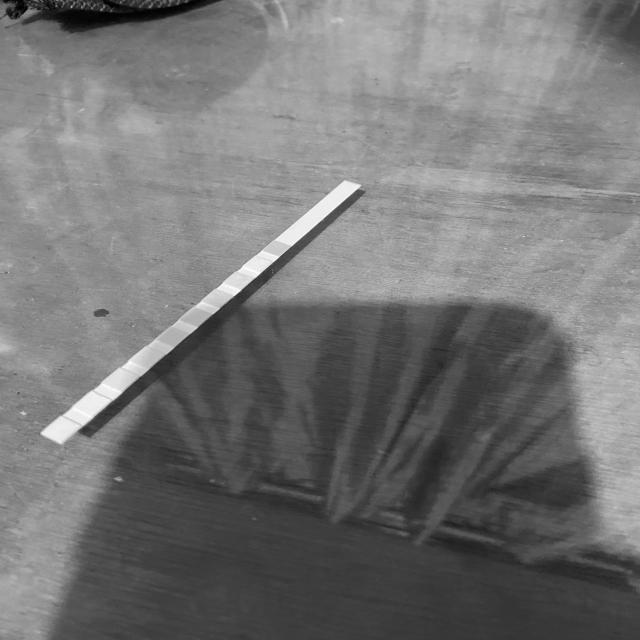Bilirubin: (248, 261, 268, 267)
Blood: (186, 312, 204, 322)
Glucose: (268, 245, 284, 253)
Ketone: (228, 277, 247, 286)
Leukocytes: (52, 422, 70, 437)
Nitrite: (80, 399, 99, 411)
Protein: (138, 352, 158, 362)
SpGravity: (207, 295, 226, 304)
Urobilinogen: (110, 374, 132, 384)
background: (0, 0, 640, 640)
pH: (165, 331, 180, 343)
strip: (40, 181, 362, 445)
